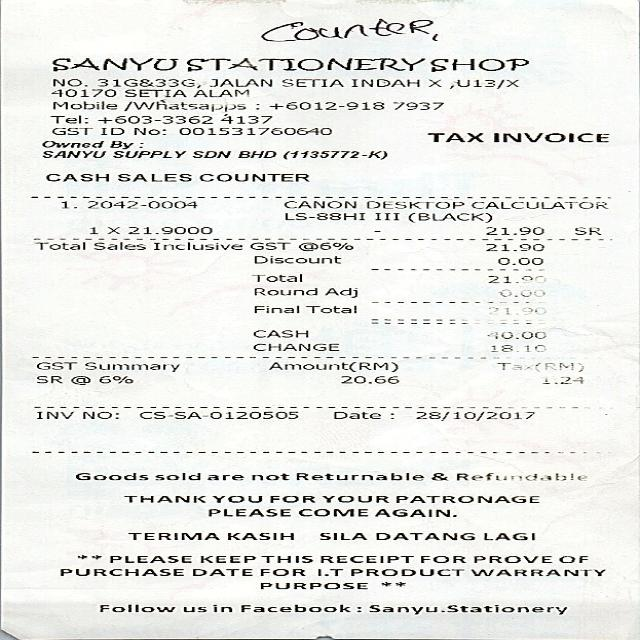text: (185, 58, 423, 70), (368, 604, 566, 614), (50, 57, 177, 70), (119, 100, 243, 111), (268, 361, 397, 371), (138, 410, 296, 418), (436, 58, 527, 71), (493, 132, 607, 142), (468, 200, 604, 208), (468, 568, 602, 576), (178, 127, 330, 134), (415, 410, 533, 419), (454, 472, 583, 480), (96, 78, 198, 88), (296, 472, 423, 480), (394, 495, 538, 502), (196, 172, 307, 181), (238, 604, 358, 612), (407, 211, 491, 222), (268, 102, 382, 110), (94, 114, 208, 122), (347, 568, 461, 576), (84, 200, 194, 208), (81, 362, 178, 371), (58, 568, 180, 575), (123, 531, 217, 540), (280, 150, 382, 158), (250, 254, 338, 263), (375, 532, 474, 540), (495, 362, 582, 371), (365, 200, 462, 208), (151, 241, 239, 249), (448, 78, 517, 88), (251, 342, 337, 350), (114, 172, 188, 181), (120, 494, 202, 502), (374, 508, 455, 516), (259, 582, 366, 588), (208, 508, 288, 516), (472, 554, 552, 562), (424, 131, 482, 142), (284, 211, 362, 219), (225, 531, 294, 540), (98, 604, 174, 612), (49, 100, 116, 109), (250, 286, 316, 295), (73, 472, 146, 480), (127, 225, 210, 232), (284, 200, 356, 208), (318, 555, 411, 561), (347, 78, 416, 86), (297, 508, 366, 516), (320, 494, 388, 502), (46, 88, 113, 96), (250, 328, 307, 337), (340, 374, 397, 383), (44, 172, 107, 180), (277, 78, 339, 86), (123, 88, 185, 96), (40, 139, 102, 147), (206, 78, 267, 86), (106, 555, 187, 561), (482, 531, 535, 540), (483, 243, 542, 251), (486, 275, 545, 283), (484, 306, 543, 314), (482, 226, 540, 234), (392, 101, 442, 110), (190, 88, 246, 96), (109, 151, 183, 157), (489, 344, 544, 352), (40, 150, 102, 157), (297, 242, 351, 250), (250, 273, 303, 281), (304, 305, 357, 313), (188, 568, 248, 575), (92, 241, 144, 249), (32, 241, 84, 249), (484, 331, 543, 338), (218, 115, 269, 123), (207, 494, 258, 502), (331, 410, 378, 418), (153, 472, 200, 480), (418, 554, 464, 562), (254, 305, 299, 313), (268, 494, 313, 502), (496, 256, 540, 264), (36, 360, 75, 369), (322, 286, 357, 296), (318, 532, 366, 539), (199, 555, 254, 561), (496, 289, 542, 296), (542, 376, 582, 384), (247, 241, 286, 249), (48, 114, 86, 122), (250, 472, 288, 480), (260, 568, 303, 575), (261, 555, 311, 561), (79, 410, 116, 418), (94, 374, 130, 382), (50, 127, 91, 134), (50, 77, 86, 84), (570, 225, 598, 234), (36, 411, 72, 418), (556, 554, 586, 562), (191, 151, 229, 157), (130, 127, 162, 134), (237, 151, 274, 157), (205, 473, 242, 479), (372, 211, 396, 220), (109, 140, 132, 149), (36, 374, 61, 382), (70, 375, 88, 385), (316, 568, 341, 575), (210, 604, 230, 612), (100, 127, 122, 134), (429, 472, 447, 480), (183, 606, 205, 612), (424, 78, 439, 86), (107, 225, 118, 232), (59, 200, 68, 208), (88, 225, 96, 233)
